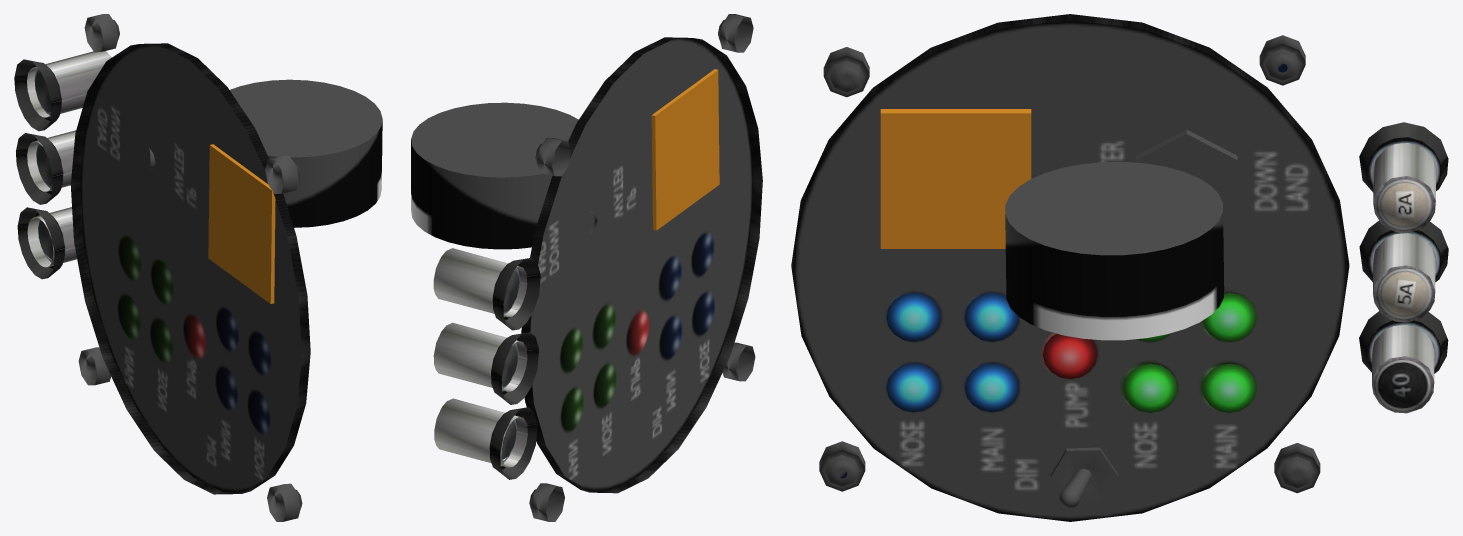
The model's file is pontoon-gear-ctrl-fg1000.gltf.
3 views of the same model, side by side, from view 1: azimuth 30°, elevation 25°; view 2: azimuth 150°, elevation 25°; view 3: azimuth 270°, elevation 25° (orthographic). The views are drawn at different scales.
Visible parts, largest first — view 1: GearFace, Gearswitch, GearAdvisory, breakers-base-hydr, GearScrews, gear_advise_breaker, hydr_pump_breaker, gear_select_breaker; view 2: GearFace, Gearswitch, GearAdvisory, breakers-base-hydr, GearScrews, hydr_pump_breaker, gear_advise_breaker, gear_select_breaker; view 3: GearFace, Gearswitch, GearAdvisory, GearScrews, breakers-base-hydr, gear_advise_breaker, gear_select_breaker, hydr_pump_breaker, Switch.nut, Dim.bezel, noseup1, mainup1 (+7 smaller).
Boxes of the visible parts, x1,y1,x2,y2 form: GearFace: [70, 43, 310, 494]; Gearswitch: [149, 79, 382, 227]; GearAdvisory: [208, 144, 275, 303]; breakers-base-hydr: [14, 59, 65, 279]; GearScrews: [78, 14, 302, 521]; gear_advise_breaker: [27, 51, 111, 117]; hydr_pump_breaker: [27, 207, 76, 267]; gear_select_breaker: [27, 130, 75, 191]; GearFace: [521, 37, 762, 493]; Gearswitch: [411, 102, 597, 249]; GearAdvisory: [651, 69, 719, 230]; breakers-base-hydr: [489, 258, 540, 479]; GearScrews: [529, 14, 755, 521]; hydr_pump_breaker: [434, 398, 527, 467]; gear_advise_breaker: [433, 248, 527, 317]; gear_select_breaker: [433, 322, 527, 391]; GearFace: [791, 14, 1349, 521]; Gearswitch: [1005, 162, 1224, 340]; GearAdvisory: [880, 109, 1031, 248]; GearScrews: [819, 35, 1320, 493]; breakers-base-hydr: [1359, 122, 1448, 373]; gear_advise_breaker: [1373, 143, 1435, 232]; gear_select_breaker: [1373, 233, 1435, 322]; hydr_pump_breaker: [1372, 324, 1434, 413]; Switch.nut: [1136, 129, 1237, 220]; Dim.bezel: [1050, 447, 1117, 503]; noseup1: [886, 363, 941, 412]; mainup1: [964, 363, 1019, 412].
Size of the model in its own units: 0.0498 by 0.0915 by 0.1078.
Materials: 3 (2 with a texture image).
